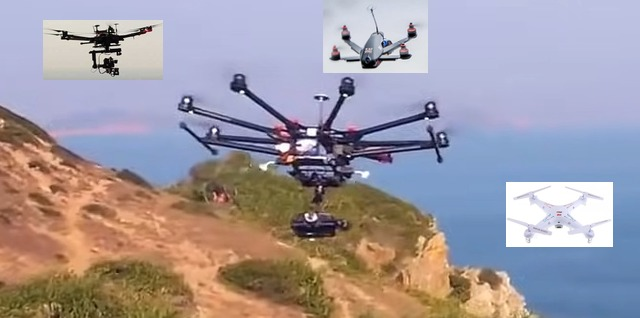drone: (178, 74, 451, 238), (323, 0, 428, 73), (43, 20, 163, 80), (506, 182, 613, 247)
